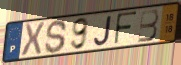9: (69, 16, 90, 51)
B: (137, 8, 160, 44)
F: (113, 10, 139, 46)
J: (92, 14, 113, 47)
S: (44, 19, 69, 55)
X: (20, 21, 46, 59)
